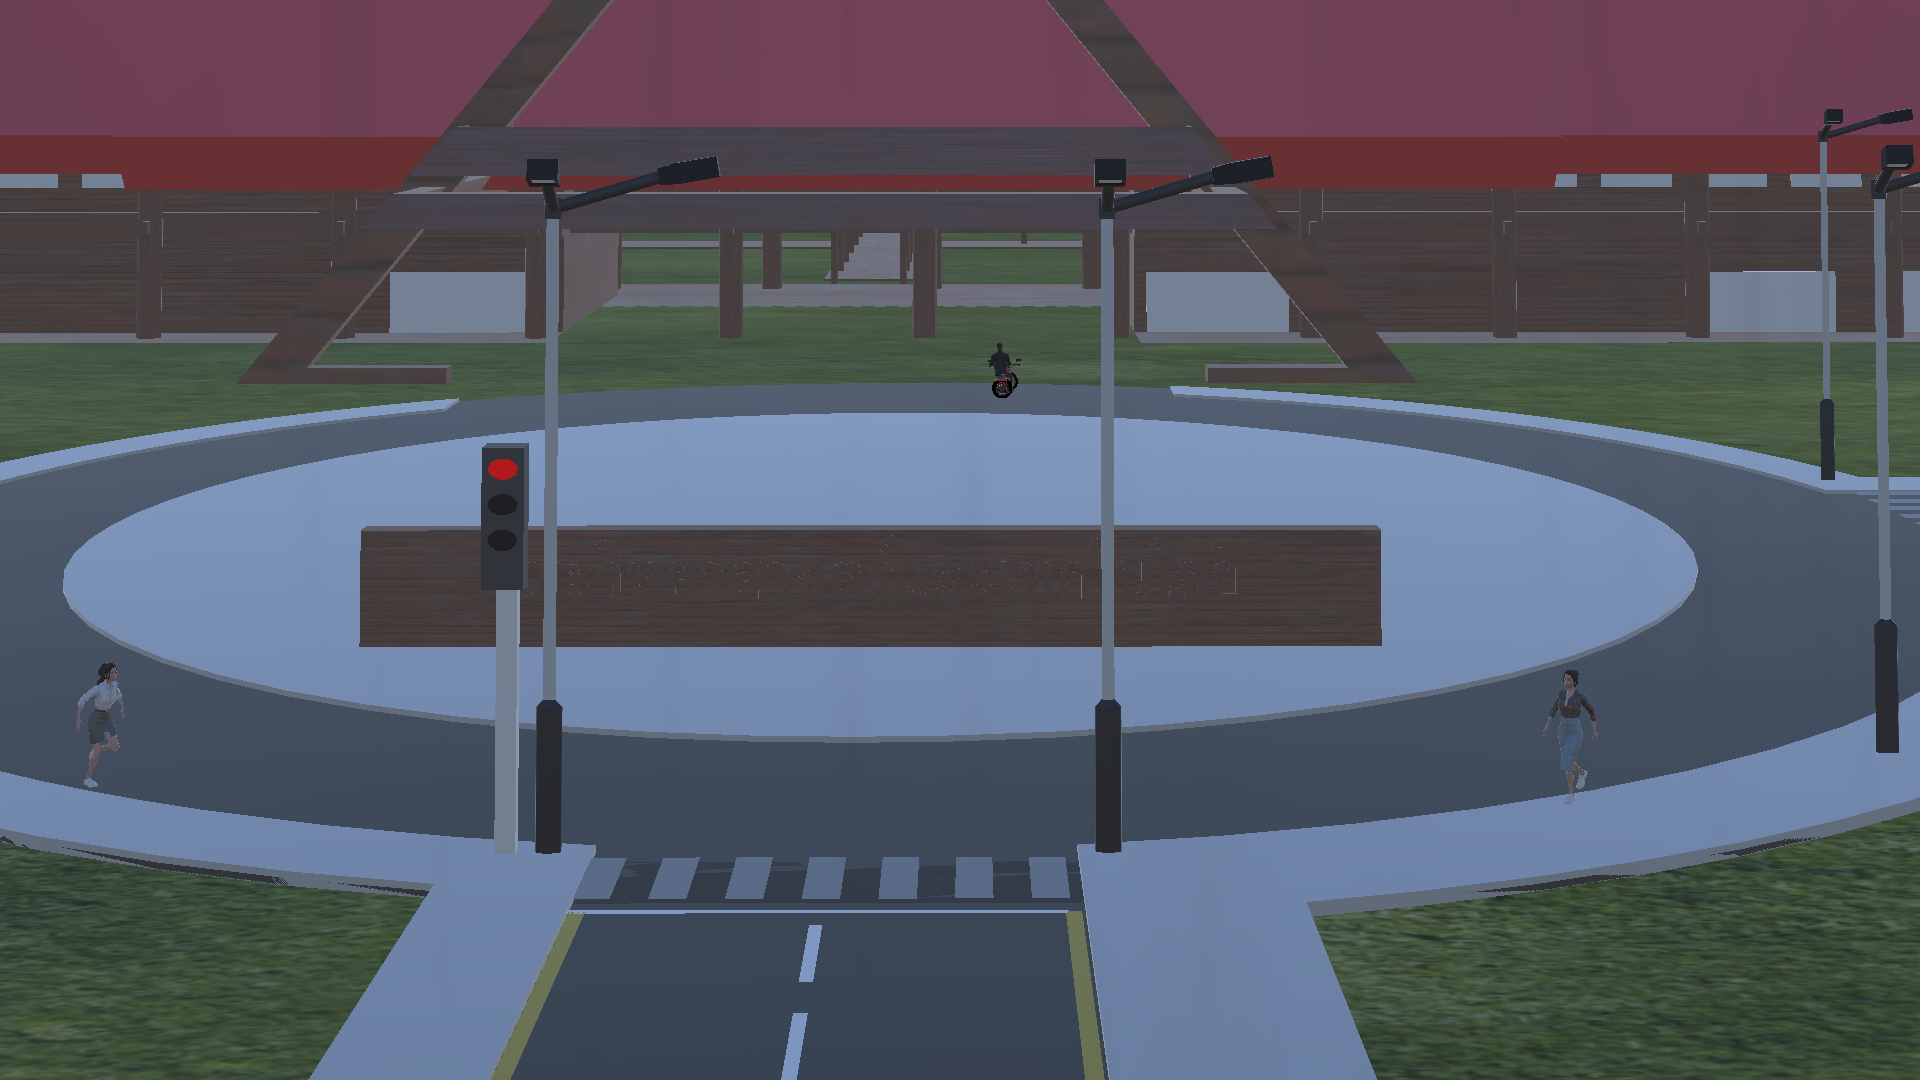pedestrian: (1538, 660, 1615, 810), (59, 654, 134, 793)
